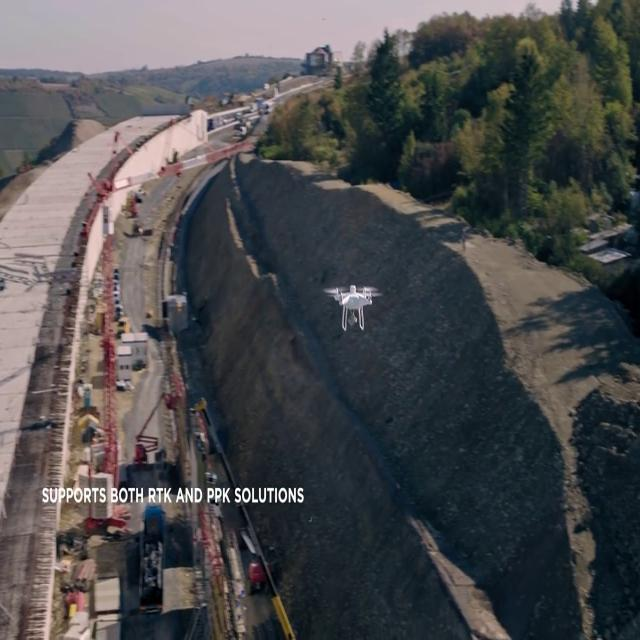drone: (322, 280, 384, 334)
